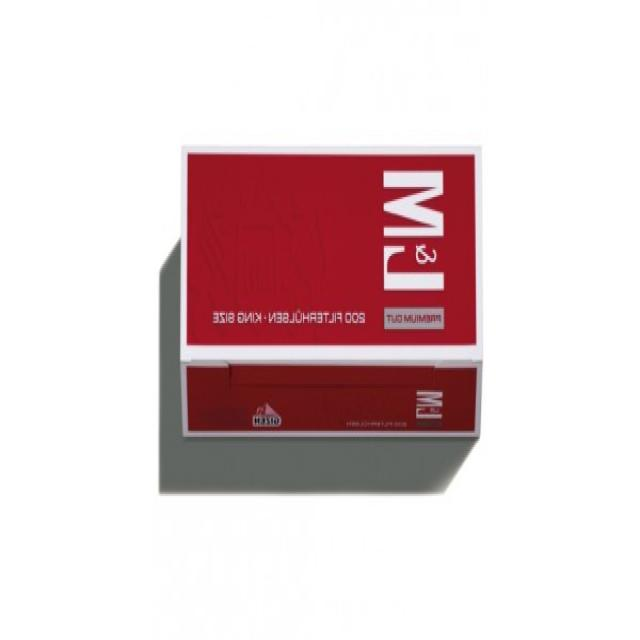lm: (177, 152, 481, 447)
